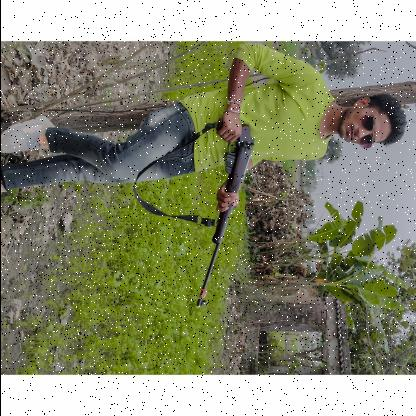rifle: (194, 117, 255, 307)
